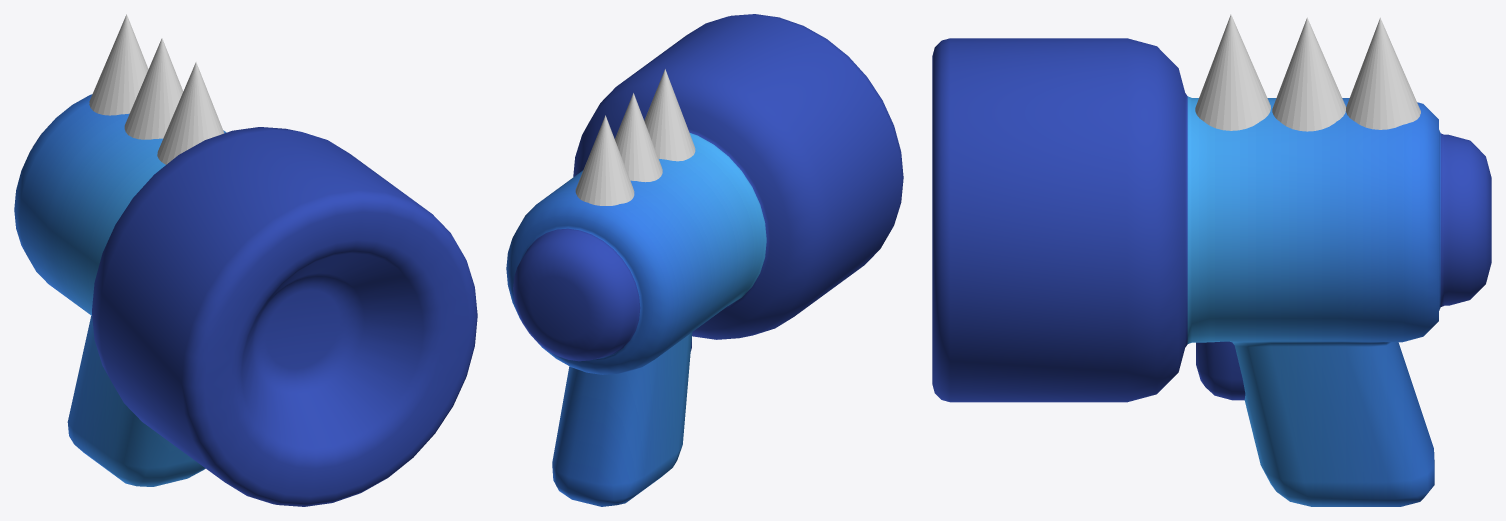
File: gun_model_3.glb
3 renders of one model, left to right at view 1: azimuth 30°, elevation 25°; view 2: azimuth 150°, elevation 25°; view 3: azimuth 270°, elevation 25°, orthographic. The views are drawn at different scales.
Visible parts, largest first — view 1: BlueGun, Cône.003, Cône.002, Cône.001; view 2: BlueGun, Cône.003, Cône.001, Cône.002; view 3: BlueGun, Cône.001, Cône.002, Cône.003.
Boxes of the visible parts, x1,y1,x2,y2 form: BlueGun: [14, 94, 477, 506]; Cône.003: [89, 14, 148, 115]; Cône.002: [124, 38, 183, 139]; Cône.001: [157, 62, 224, 164]; BlueGun: [506, 14, 903, 506]; Cône.003: [575, 115, 634, 205]; Cône.001: [644, 69, 695, 161]; Cône.002: [615, 93, 662, 182]; BlueGun: [932, 38, 1491, 506]; Cône.001: [1195, 14, 1270, 130]; Cône.002: [1272, 17, 1345, 131]; Cône.003: [1346, 18, 1420, 129].
Size of the model in its own units: 0.614 by 0.8908 by 0.942.
Materials: 1 (1 with a texture image).
